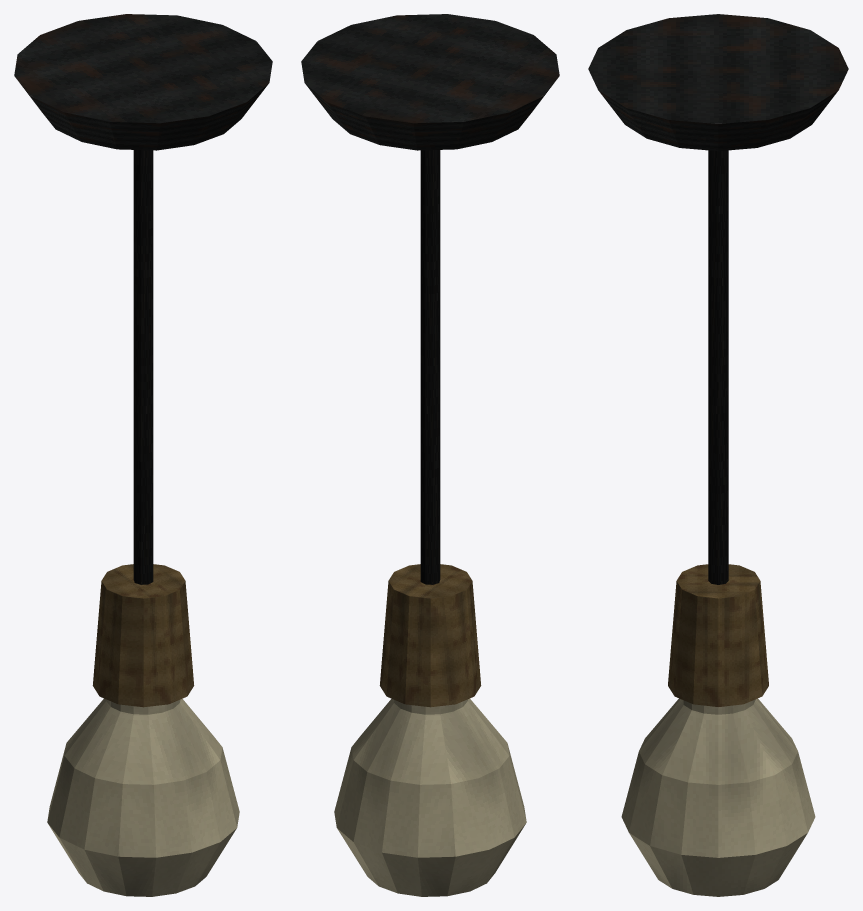
File: level_light_bare_bulb_worn.glb
3 views of the same model, side by side, from view 1: azimuth 30°, elevation 25°; view 2: azimuth 150°, elevation 25°; view 3: azimuth 270°, elevation 25° (orthographic).
Visible parts, largest first — view 1: level_light_bare_bulb_worn; view 2: level_light_bare_bulb_worn; view 3: level_light_bare_bulb_worn.
Part boxes in pixels (<box>): level_light_bare_bulb_worn: <box>14,14,272,896</box>; level_light_bare_bulb_worn: <box>301,14,559,896</box>; level_light_bare_bulb_worn: <box>588,14,848,896</box>.
Size of the model in its own units: 0.18 by 0.62 by 0.18.
Materials: 4 (4 with a texture image).
